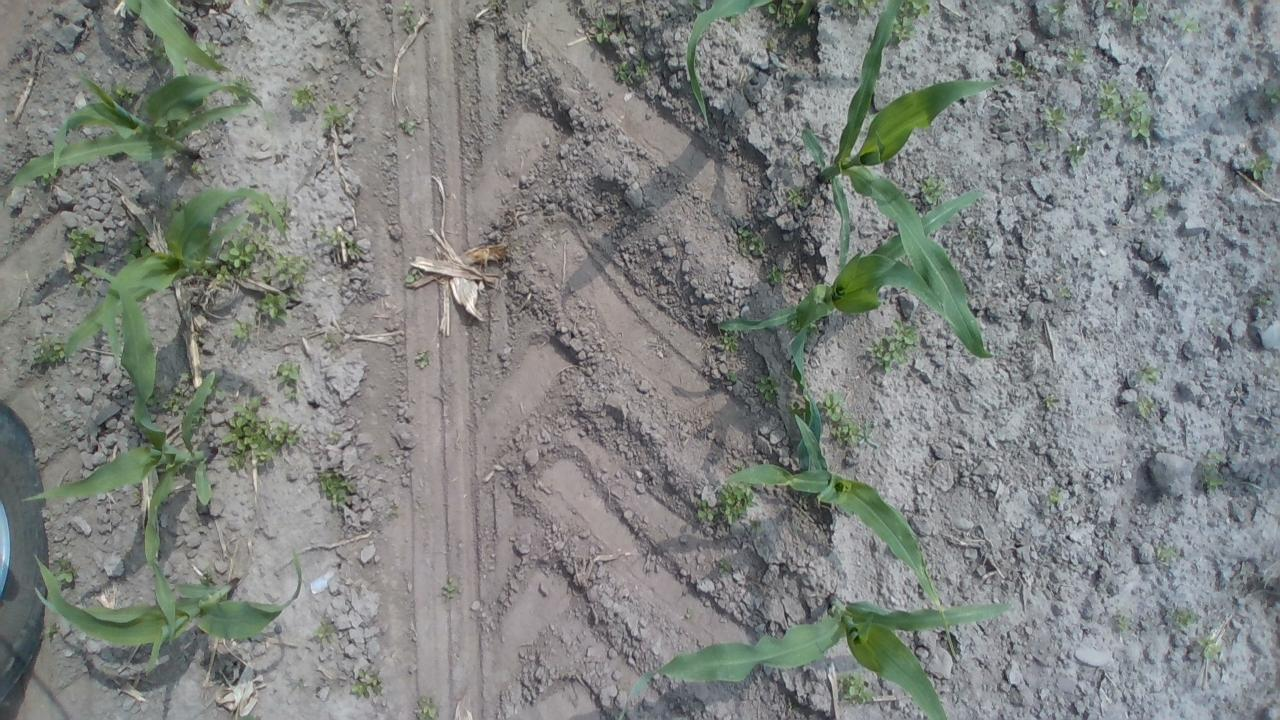Maize: (20, 262, 216, 643), (796, 0, 996, 361), (716, 190, 988, 443), (724, 420, 962, 666), (617, 591, 1014, 720), (62, 173, 288, 370), (30, 550, 304, 670), (1, 70, 267, 188), (686, 0, 774, 134), (120, 0, 230, 79)
Weeds: (221, 396, 297, 474), (215, 223, 276, 285), (820, 389, 880, 448), (867, 316, 920, 374), (888, 0, 932, 46), (717, 478, 757, 526), (274, 253, 310, 304), (315, 468, 359, 508), (147, 382, 190, 422), (318, 225, 363, 258), (248, 192, 288, 228), (66, 226, 105, 262), (766, 0, 814, 29), (1124, 90, 1152, 138), (837, 671, 874, 704), (1096, 78, 1122, 124), (100, 81, 140, 110), (1197, 450, 1227, 488), (32, 336, 68, 366), (349, 669, 384, 698), (278, 359, 302, 400), (258, 292, 290, 322), (322, 103, 354, 132), (591, 17, 624, 45), (128, 229, 154, 264), (614, 57, 650, 82), (289, 82, 321, 110), (52, 558, 80, 589), (1041, 104, 1068, 135), (833, 0, 882, 17), (736, 226, 764, 255), (756, 374, 782, 403), (1065, 45, 1090, 73), (196, 42, 223, 67), (228, 318, 256, 342), (1066, 138, 1090, 166), (152, 36, 174, 66), (230, 80, 256, 105), (921, 176, 945, 203), (1250, 151, 1272, 180), (696, 496, 720, 522), (1200, 637, 1226, 659), (163, 197, 190, 218), (416, 695, 438, 720), (1130, 0, 1150, 27), (1174, 606, 1200, 626), (1174, 13, 1200, 33), (402, 0, 418, 32), (1140, 172, 1162, 195), (1006, 56, 1025, 82), (785, 402, 806, 424), (193, 403, 209, 431), (787, 186, 808, 207), (719, 330, 738, 353), (160, 117, 182, 136), (766, 263, 784, 286), (762, 38, 785, 55), (39, 170, 62, 187), (399, 118, 418, 138), (1135, 397, 1154, 417), (313, 622, 336, 638), (1156, 546, 1177, 562), (195, 96, 212, 115), (1117, 613, 1134, 631), (1048, 3, 1064, 22), (255, 0, 272, 17), (405, 270, 425, 284), (71, 272, 88, 288), (1142, 367, 1158, 384), (1150, 205, 1169, 219), (448, 576, 460, 598), (209, 378, 223, 396), (688, 0, 703, 16), (184, 266, 208, 276), (262, 110, 274, 130), (1256, 296, 1273, 310), (1265, 88, 1280, 103), (1048, 488, 1062, 503), (1030, 140, 1047, 152), (418, 352, 430, 368), (1104, 0, 1123, 10), (191, 162, 206, 174), (718, 558, 729, 574), (807, 322, 818, 338), (1058, 288, 1072, 300), (788, 318, 798, 334), (750, 523, 762, 536), (46, 624, 58, 637), (1044, 397, 1056, 408), (725, 14, 738, 24), (327, 431, 339, 441), (178, 369, 190, 378), (728, 372, 738, 382), (243, 714, 256, 720), (132, 190, 140, 199), (200, 575, 207, 585), (984, 341, 988, 354)
